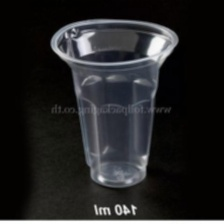glass: (43, 13, 182, 195)
